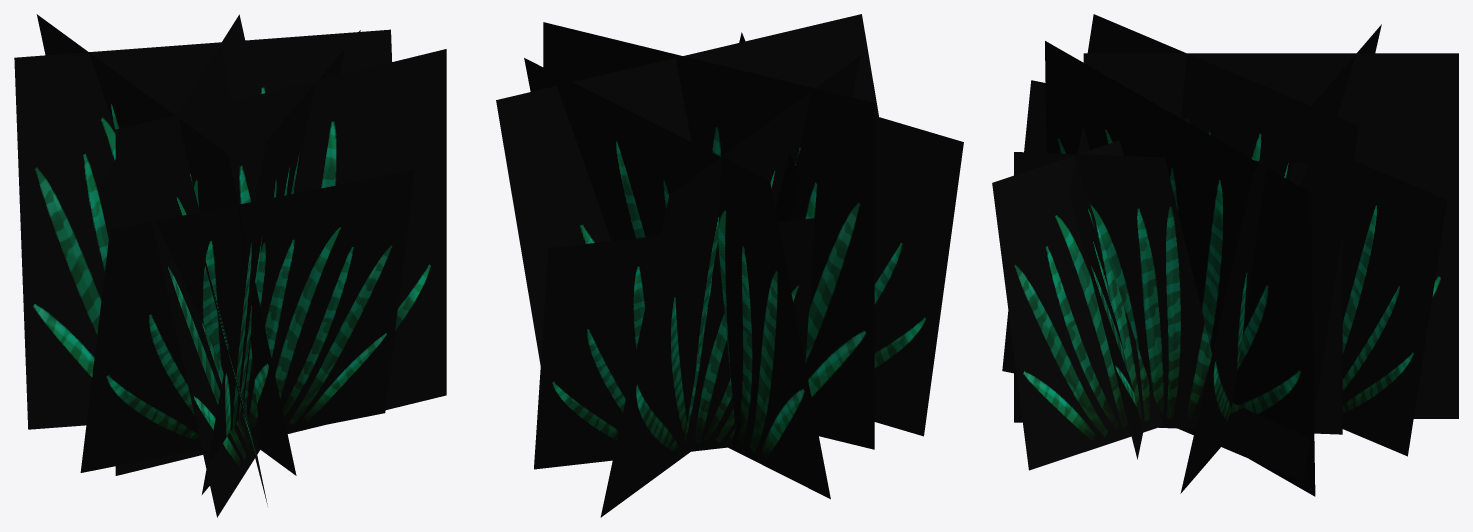
The model's file is VegetationGroupBush02(SimpleMesh).fbx.
The picture shows the model from 3 angles, left to right: view 1: azimuth 30°, elevation 25°; view 2: azimuth 150°, elevation 25°; view 3: azimuth 270°, elevation 25°; orthographic projection. The views are drawn at different scales.
Parts seen in each view (by area): view 1: BushGrass01; view 2: BushGrass01; view 3: BushGrass01.
Boxes of the visible parts, x1,y1,x2,y2 form: BushGrass01: (14, 14, 446, 517); BushGrass01: (496, 14, 963, 517); BushGrass01: (992, 14, 1458, 496).
Size of the model in its own units: 57.15 by 55.31 by 62.21.
